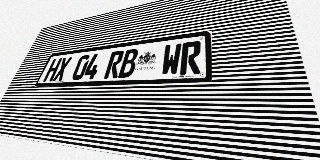0: (71, 54, 91, 80)
4: (82, 53, 103, 80)
B: (118, 48, 139, 78)
H: (43, 58, 62, 82)
R: (180, 40, 201, 75), (104, 50, 125, 79)
W: (160, 43, 182, 76)
X: (52, 57, 72, 81)
